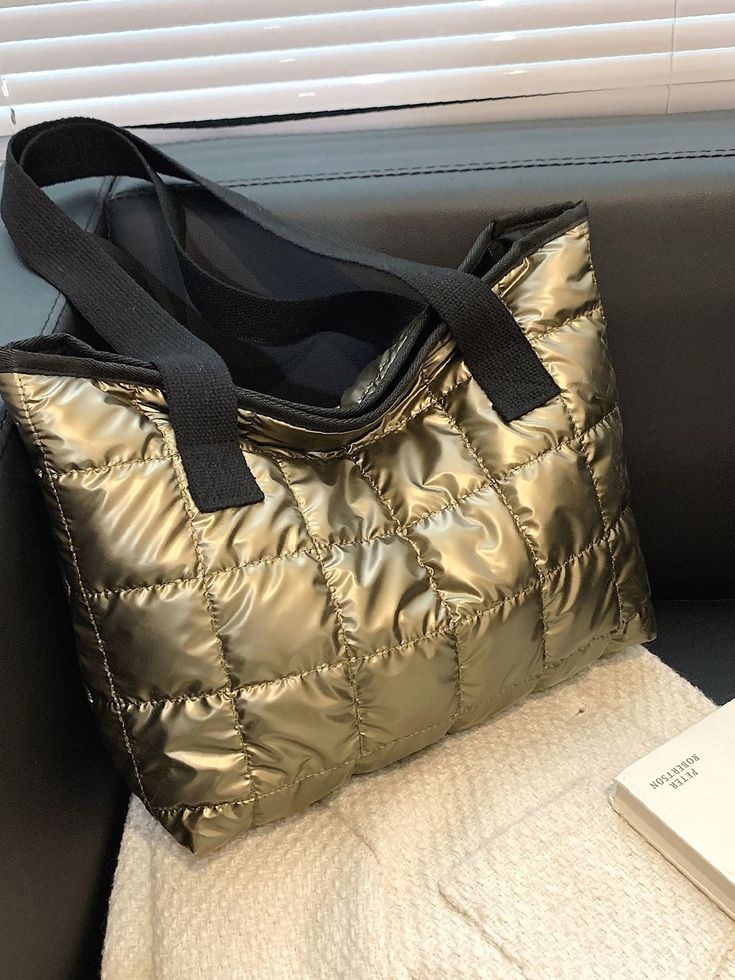nylon: (1, 117, 657, 861)
